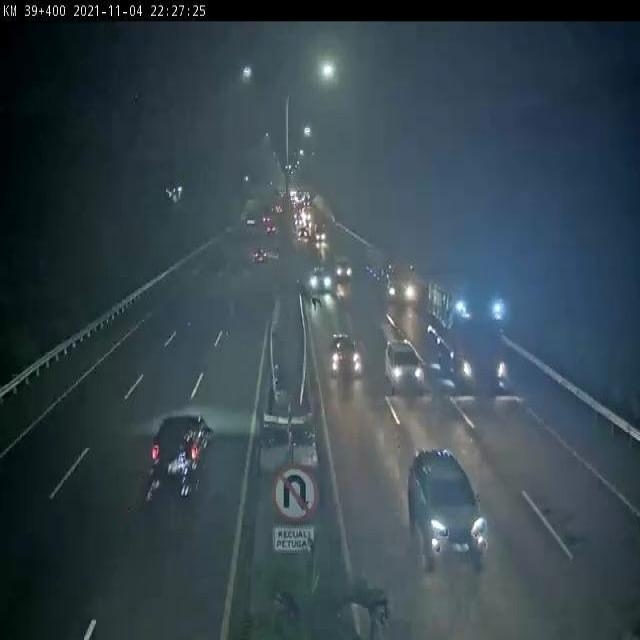car: (408, 450, 489, 566), (149, 414, 212, 494), (385, 341, 426, 392), (329, 331, 364, 377), (308, 267, 331, 293), (251, 245, 272, 268), (337, 260, 352, 281)
truck-l-: (427, 275, 508, 389)
truck-xl-: (367, 246, 421, 302)
